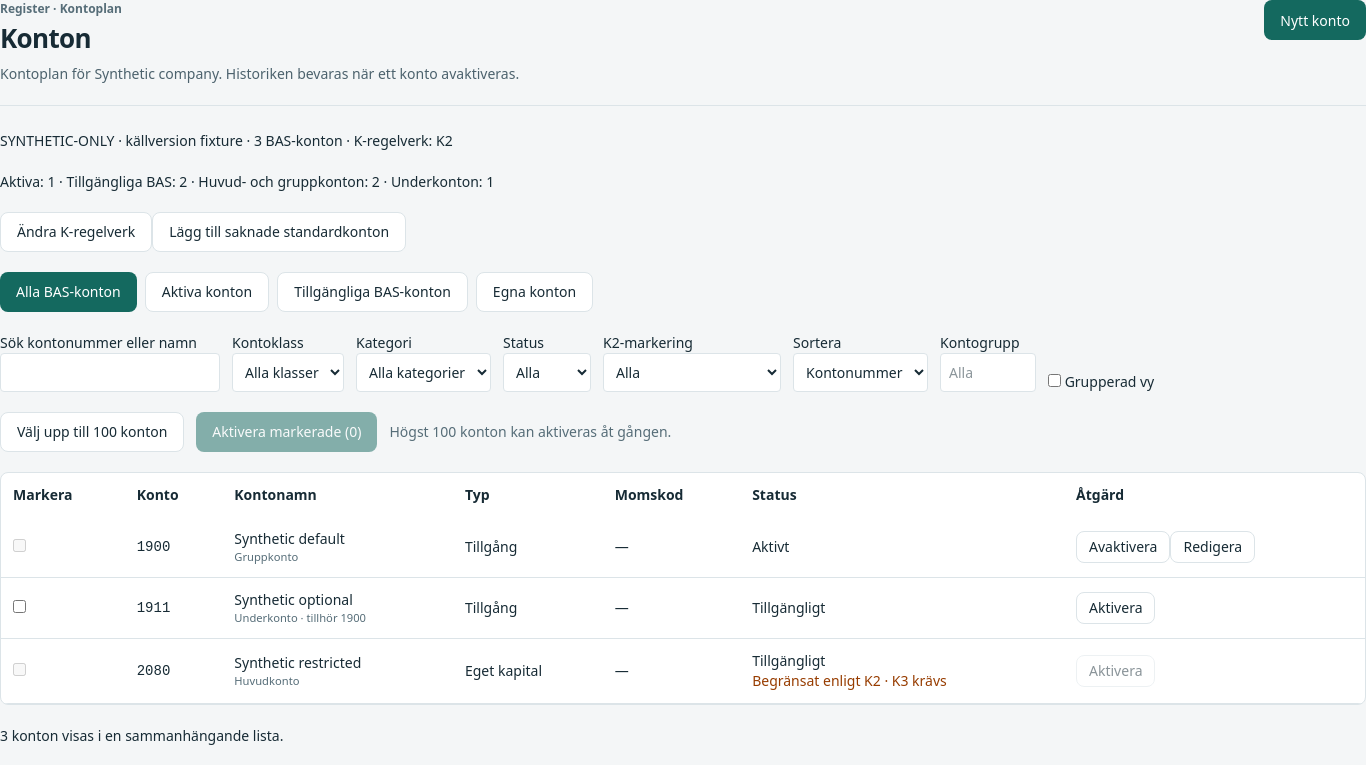
requires confirmation, preserves identity, and can reactivate a catalog account
Expected: the text "Synthetic default" is shown, [234,529,345,548]
Click the button with aria-label "Avaktivera konto 1900" at point(1123, 547), box [1076,531,1170,563]
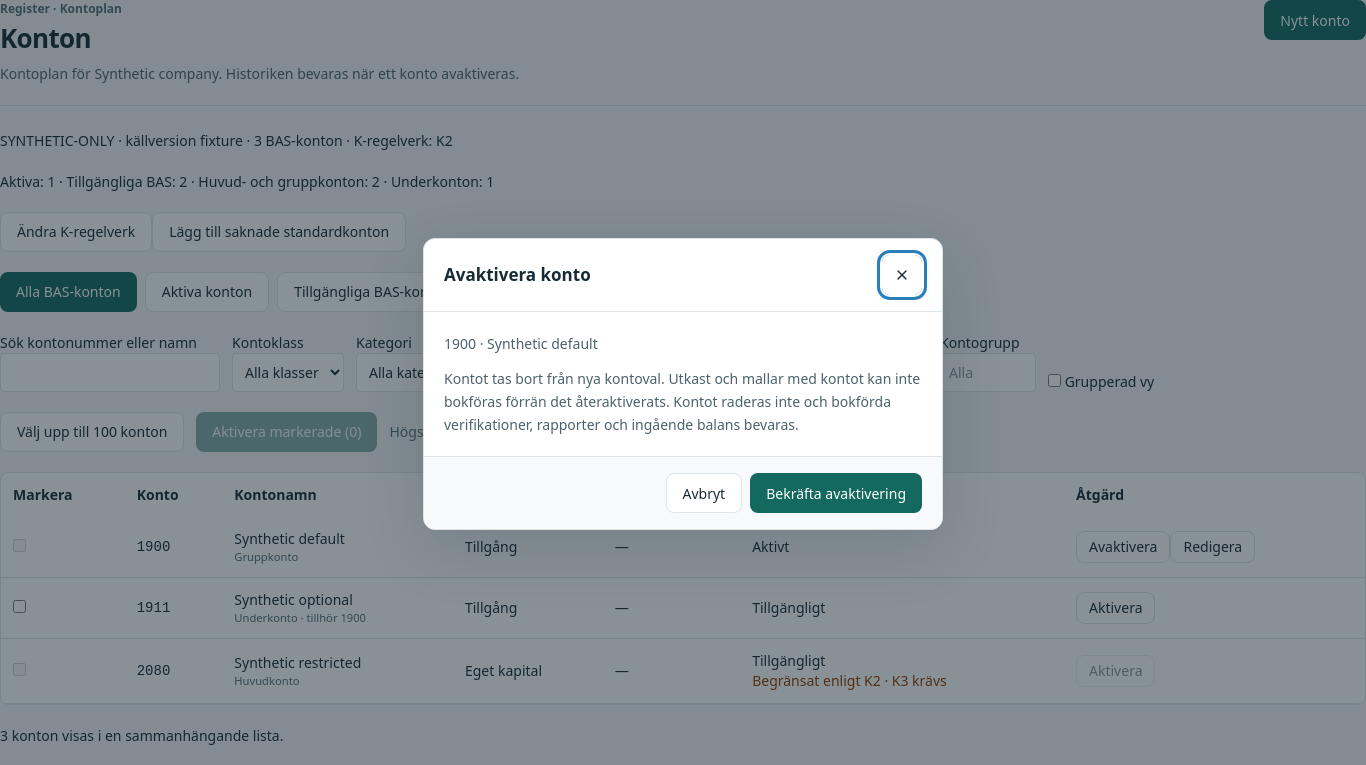
Result: the dialog "Avaktivera konto" is shown at [423,238,943,530]
Result: the text "Kontot raderas inte" is shown at [444,369,920,434]
Click the button "Avbryt" at point(704, 493), box [666,473,742,513]
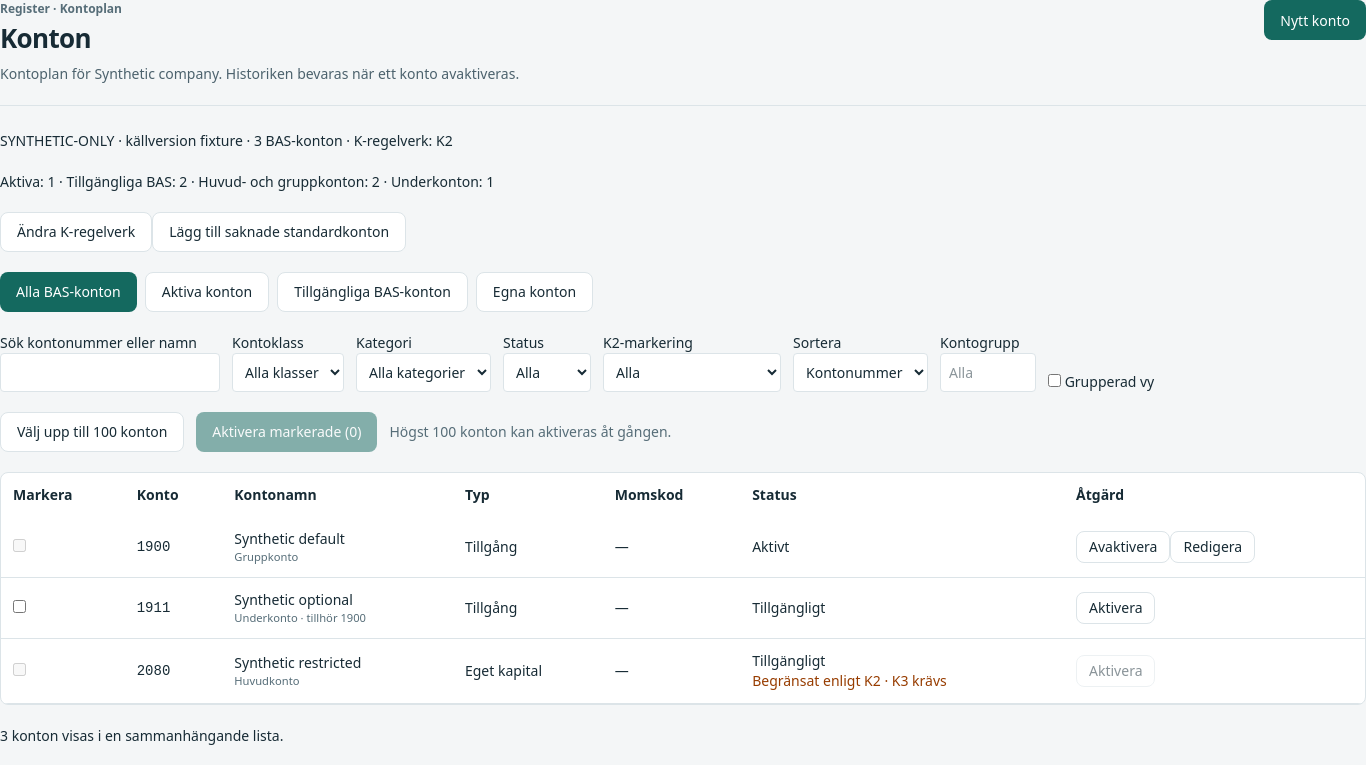
Click the button with aria-label "Avaktivera konto 1900" at point(1123, 547), box [1076,531,1170,563]
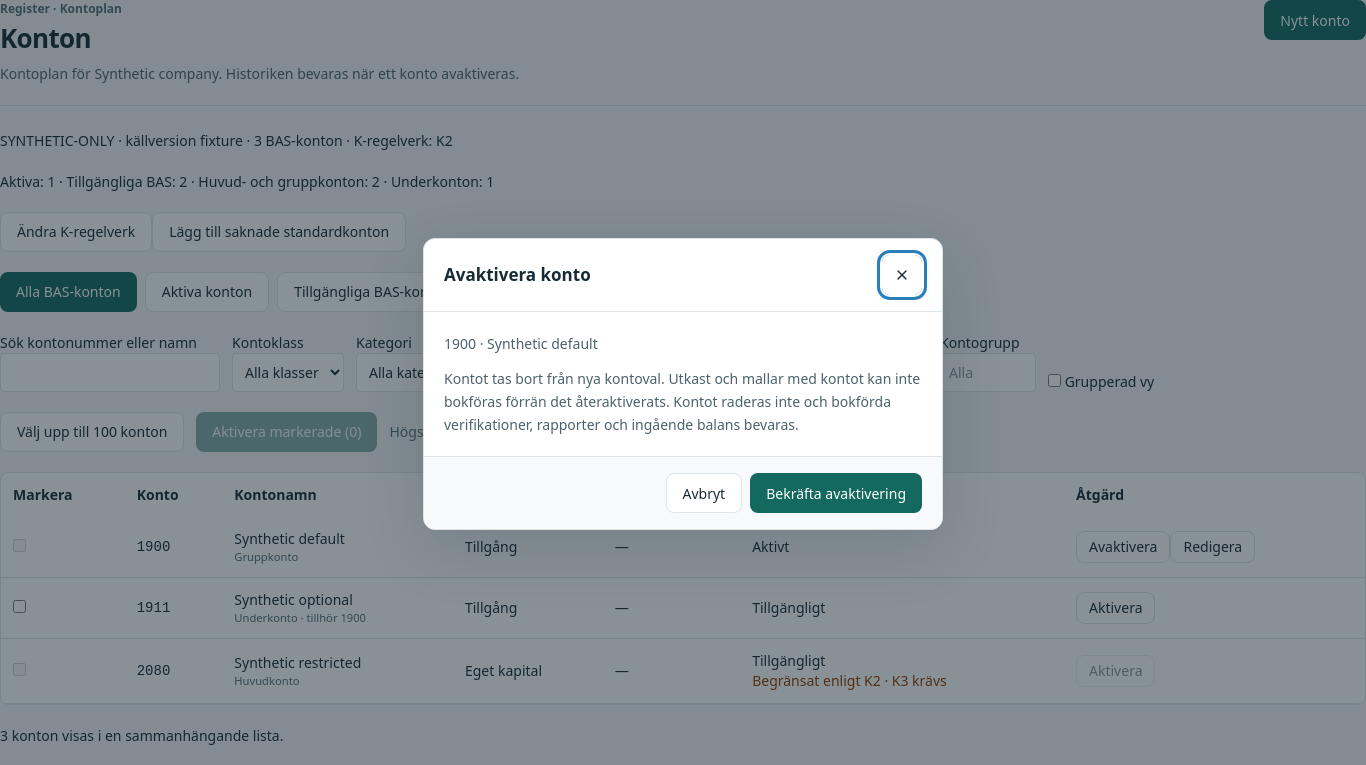
Click the button "Bekräfta avaktivering" at point(836, 493), box [750,473,922,513]
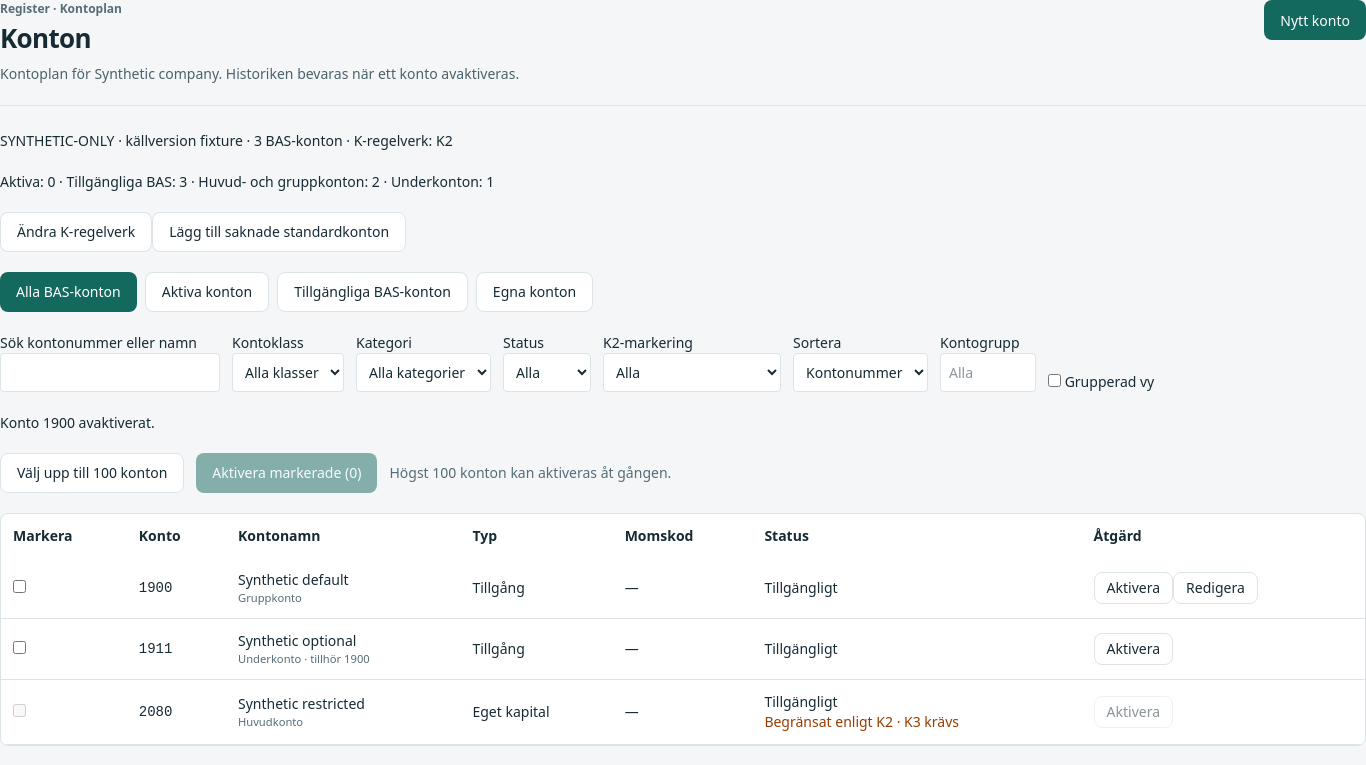
Expected: the button with aria-label "Aktivera konto 1900" is enabled, [1094,572,1173,604]
Result: the text "Konto 1900 avaktiverat." is shown at [0,413,155,432]
